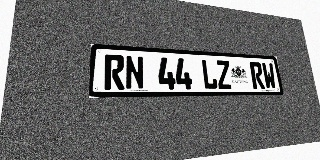4: (157, 57, 176, 90), (175, 58, 193, 89)
L: (201, 59, 218, 89)
N: (125, 55, 144, 90)
R: (104, 54, 125, 90), (249, 62, 265, 89)
W: (261, 62, 277, 89)
Z: (215, 60, 232, 89)
